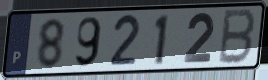1: (152, 12, 171, 67)
2: (182, 10, 217, 66), (109, 11, 142, 69)
8: (36, 16, 68, 70)
9: (73, 15, 103, 69)
B: (216, 8, 258, 67)
